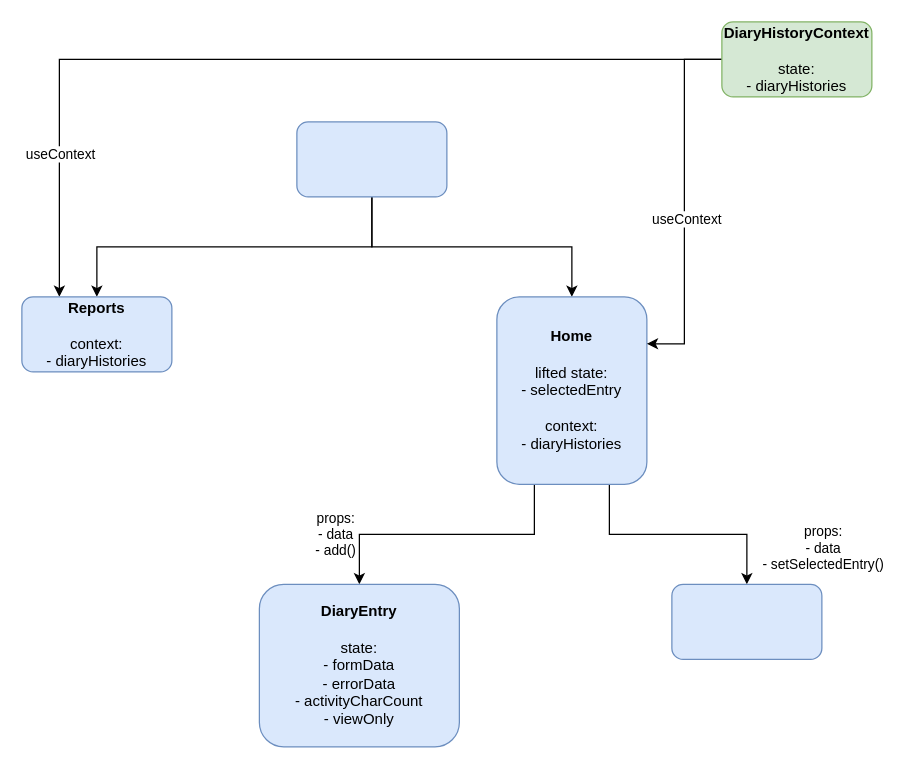
The diagram is 905 pixels wide and 769 high, and some of its shapes have lost their labels. Each missing label, with the box of its shape:
App: (296, 121, 447, 197)
DiaryHistory state: n/a: (671, 583, 822, 659)
